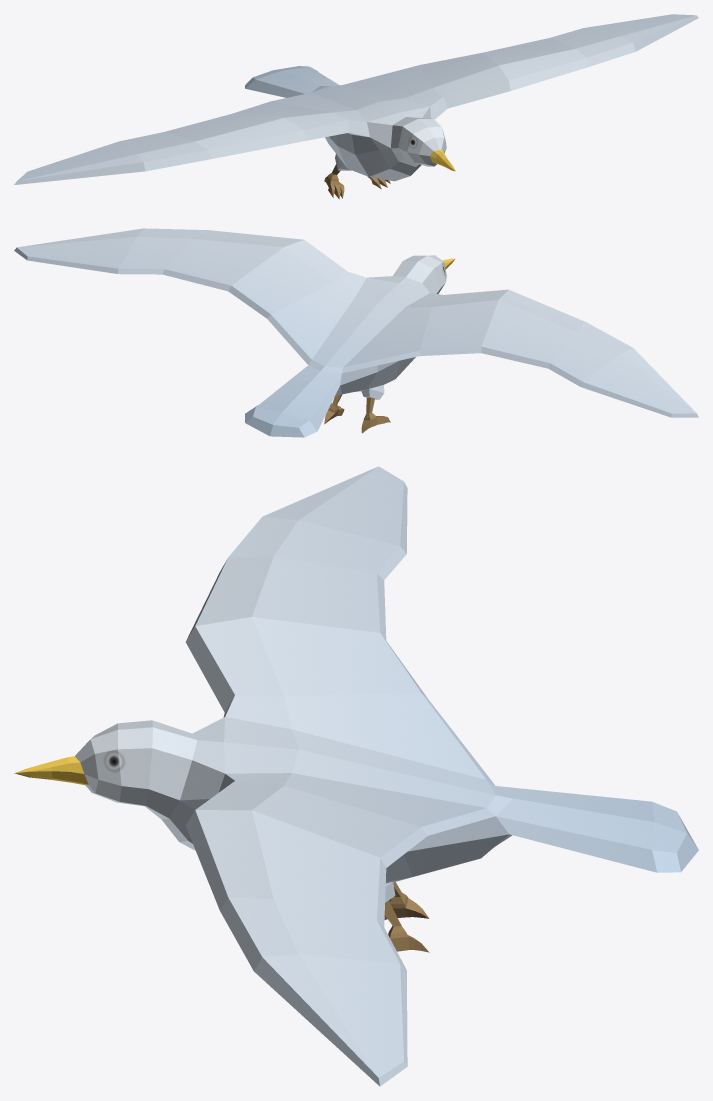
The model's file is Seagull.FBX.
3 views of the same model, one above another, from view 1: azimuth 30°, elevation 25°; view 2: azimuth 150°, elevation 25°; view 3: azimuth 270°, elevation 25° (orthographic). The views are drawn at different scales.
Visible parts, largest first — view 1: Box002; view 2: Box002; view 3: Box002.
Boxes of the visible parts, bbox=[...] form: Box002: bbox=[14, 14, 698, 199]; Box002: bbox=[14, 228, 698, 437]; Box002: bbox=[14, 466, 698, 1086].
Size of the model in its own units: 272 by 47.07 by 128.
Materials: 1 (1 with a texture image).
